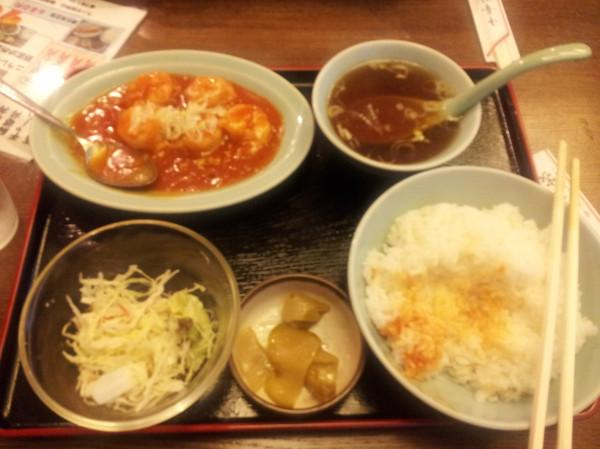rice: (365, 203, 544, 401)
